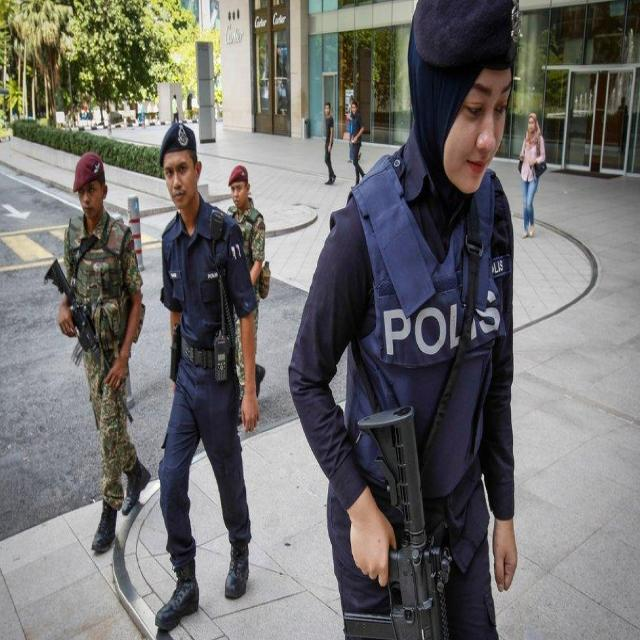Person: (282, 0, 533, 640), (148, 109, 261, 620), (43, 142, 151, 557), (222, 147, 278, 412), (516, 114, 548, 237), (320, 100, 340, 191)
